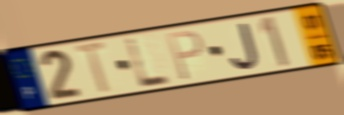1: (258, 14, 292, 70)
2: (42, 47, 86, 104)
J: (229, 21, 261, 72)
L: (124, 36, 174, 90)
P: (165, 28, 206, 83)
T: (72, 39, 113, 97)
